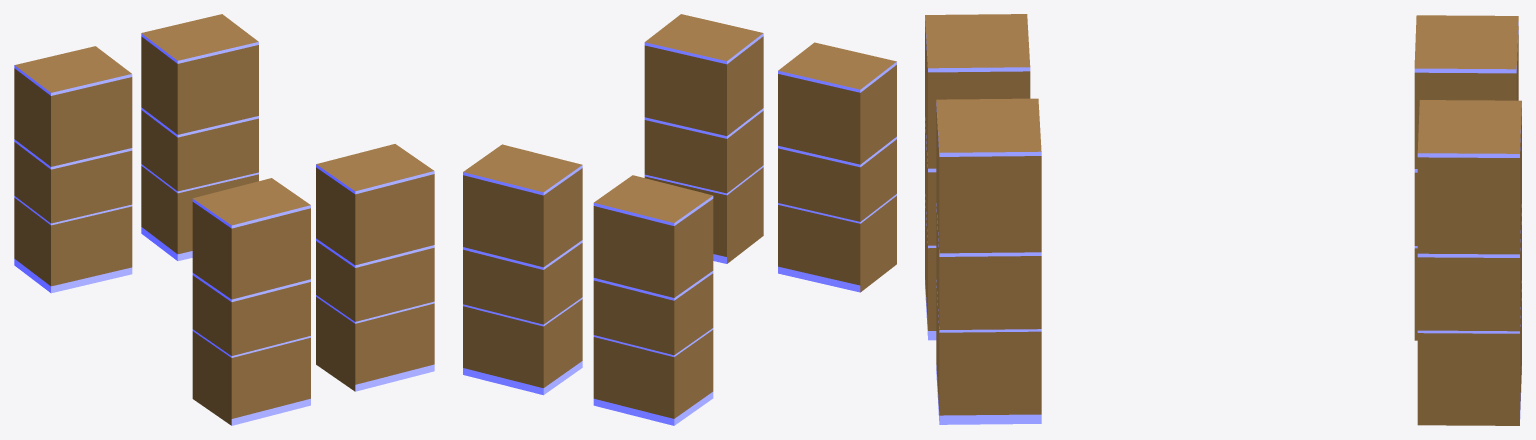
Rendered from hueco_carcel2.glb.
The picture shows the model from 3 angles, left to right: view 1: azimuth 30°, elevation 25°; view 2: azimuth 150°, elevation 25°; view 3: azimuth 270°, elevation 25°; orthographic projection. The views are drawn at different scales.
Parts seen in each view (by area): view 1: wall_1_.001, wall_1_.003, wall_1_.004, wall_1_.002; view 2: wall_1_.003, wall_1_.002, wall_1_.004, wall_1_.001; view 3: wall_1_.001, wall_1_.002, wall_1_.004, wall_1_.003.
Boxes of the visible parts, x1=… form: wall_1_.001: x1=316, y1=144, x2=434, y2=391; wall_1_.003: x1=14, y1=46, x2=132, y2=293; wall_1_.004: x1=192, y1=178, x2=310, y2=425; wall_1_.002: x1=141, y1=14, x2=258, y2=260; wall_1_.003: x1=593, y1=175, x2=713, y2=425; wall_1_.002: x1=463, y1=144, x2=582, y2=395; wall_1_.004: x1=778, y1=42, x2=896, y2=292; wall_1_.001: x1=644, y1=14, x2=763, y2=263; wall_1_.001: x1=936, y1=98, x2=1041, y2=424; wall_1_.002: x1=1417, y1=100, x2=1521, y2=425; wall_1_.004: x1=925, y1=14, x2=1030, y2=340; wall_1_.003: x1=1414, y1=15, x2=1518, y2=340.
Size of what is drawn, in the model's own units: 17.65 by 16 by 31.81.
